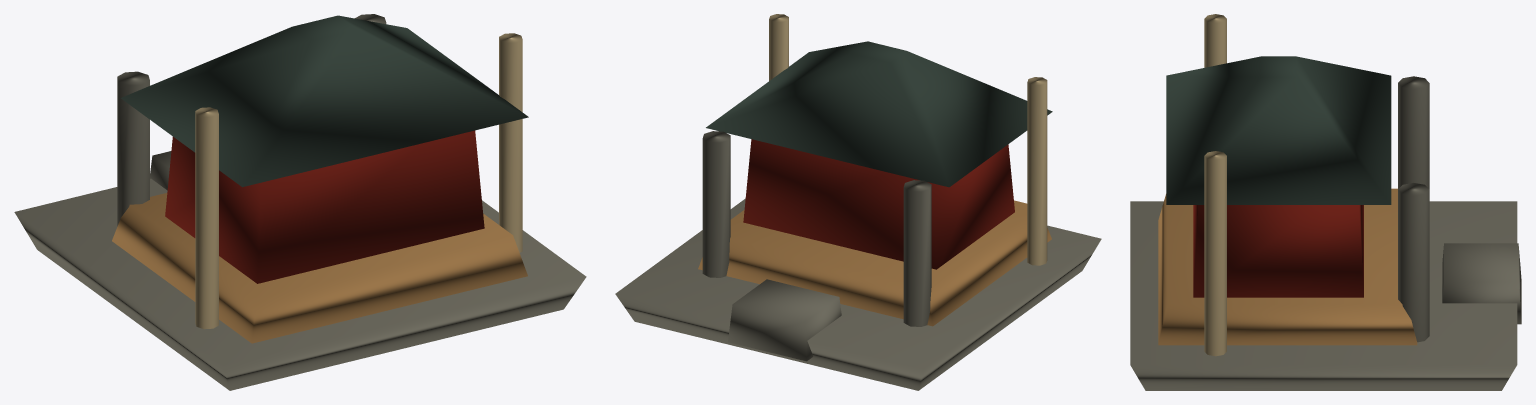
The model's file is R46_HAN_LUOYANG_GENERIC_RITUAL_HALL_A.fbx.
3 views of the same model, side by side, from view 1: azimuth 30°, elevation 25°; view 2: azimuth 150°, elevation 25°; view 3: azimuth 270°, elevation 25° (orthographic). The views are drawn at different scales.
Visible parts, largest first — view 1: roof, lower_terrace, hall, upper_terrace, banner_e, banner_w, stele_e, south_stair; view 2: roof, lower_terrace, hall, upper_terrace, south_stair, stele_w, stele_e, banner_e, banner_w; view 3: roof, lower_terrace, upper_terrace, hall, south_stair, banner_w, stele_w, stele_e, banner_e.
Boxes of the visible parts, <box> form: roof: <box>121,15,528,187</box>; lower_terrace: <box>14,178,586,390</box>; hall: <box>165,130,484,283</box>; upper_terrace: <box>112,193,527,343</box>; banner_e: <box>195,107,218,329</box>; banner_w: <box>499,33,522,252</box>; stele_e: <box>117,71,149,226</box>; south_stair: <box>150,151,171,190</box>; roof: <box>706,41,1052,187</box>; lower_terrace: <box>615,198,1101,390</box>; hall: <box>743,139,1014,269</box>; upper_terrace: <box>698,200,1051,326</box>; south_stair: <box>728,279,841,361</box>; stele_w: <box>702,131,730,277</box>; stele_e: <box>903,180,931,326</box>; banner_e: <box>1027,77,1047,265</box>; banner_w: <box>769,14,788,80</box>; roof: <box>1166,56,1391,204</box>; lower_terrace: <box>1130,201,1517,390</box>; upper_terrace: <box>1158,188,1417,345</box>; hall: <box>1193,205,1363,297</box>; south_stair: <box>1442,243,1521,324</box>; banner_w: <box>1204,151,1226,356</box>; stele_w: <box>1398,183,1429,342</box>; stele_e: <box>1398,76,1429,188</box>; banner_e: <box>1204,14,1226,67</box>.
Size of the model in its own units: 86 by 61 by 87.
